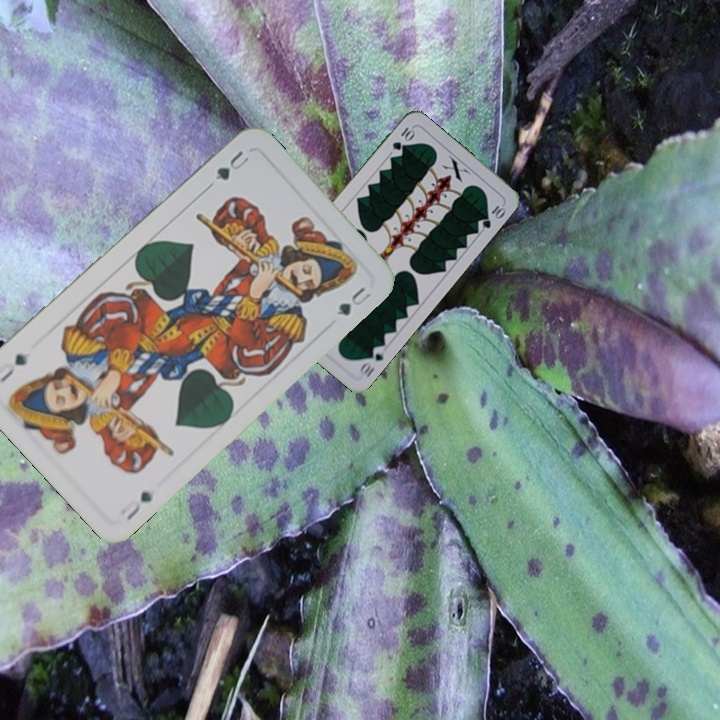G10: (354, 341, 386, 380), (388, 123, 417, 153)
GU: (211, 146, 252, 184), (115, 487, 157, 523)
